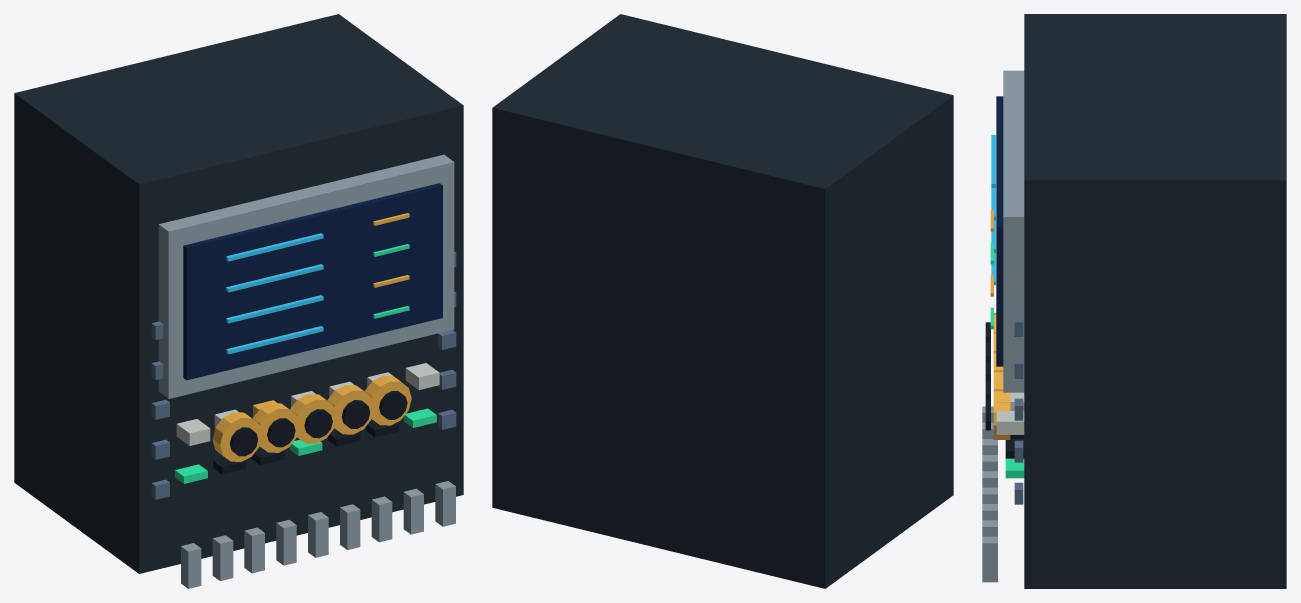
File: 49_L84_SlewTrajectoryPlanner.fbx
The picture shows the model from 3 angles, left to right: view 1: azimuth 30°, elevation 25°; view 2: azimuth 150°, elevation 25°; view 3: azimuth 270°, elevation 25°; orthographic projection. The views are drawn at different scales.
Parts seen in each view (by area): view 1: L84_SlewTrajectoryPlanner, L84_SlewTrajectoryPlanner_Part_0010, L84_SlewTrajectoryPlanner_Part_0016, L84_SlewTrajectoryPlanner_Part_0014, L84_SlewTrajectoryPlanner_Part_0012, L84_SlewTrajectoryPlanner_Part_0018, L84_SlewTrajectoryPlanner_Part_0011, L84_SlewTrajectoryPlanner_Part_0013, L84_SlewTrajectoryPlanner_Part_0015, L84_SlewTrajectoryPlanner_Part_0019, L84_SlewTrajectoryPlanner_Part_0017; view 2: L84_SlewTrajectoryPlanner; view 3: L84_SlewTrajectoryPlanner, L84_SlewTrajectoryPlanner_Part_0018.
Boxes of the visible parts, x1,y1,x2,y2 form: L84_SlewTrajectoryPlanner: (14, 14, 463, 588); L84_SlewTrajectoryPlanner_Part_0010: (212, 412, 262, 461); L84_SlewTrajectoryPlanner_Part_0016: (327, 384, 374, 434); L84_SlewTrajectoryPlanner_Part_0014: (290, 394, 335, 443); L84_SlewTrajectoryPlanner_Part_0012: (252, 403, 299, 452); L84_SlewTrajectoryPlanner_Part_0018: (364, 375, 411, 425); L84_SlewTrajectoryPlanner_Part_0011: (229, 427, 258, 456); L84_SlewTrajectoryPlanner_Part_0013: (267, 418, 295, 447); L84_SlewTrajectoryPlanner_Part_0015: (304, 409, 332, 438); L84_SlewTrajectoryPlanner_Part_0019: (379, 391, 407, 419); L84_SlewTrajectoryPlanner_Part_0017: (341, 400, 370, 428); L84_SlewTrajectoryPlanner: (492, 14, 953, 588); L84_SlewTrajectoryPlanner: (982, 14, 1286, 588); L84_SlewTrajectoryPlanner_Part_0018: (993, 389, 1010, 439).
Size of the model in its own units: 99.96 by 117 by 77.32.
